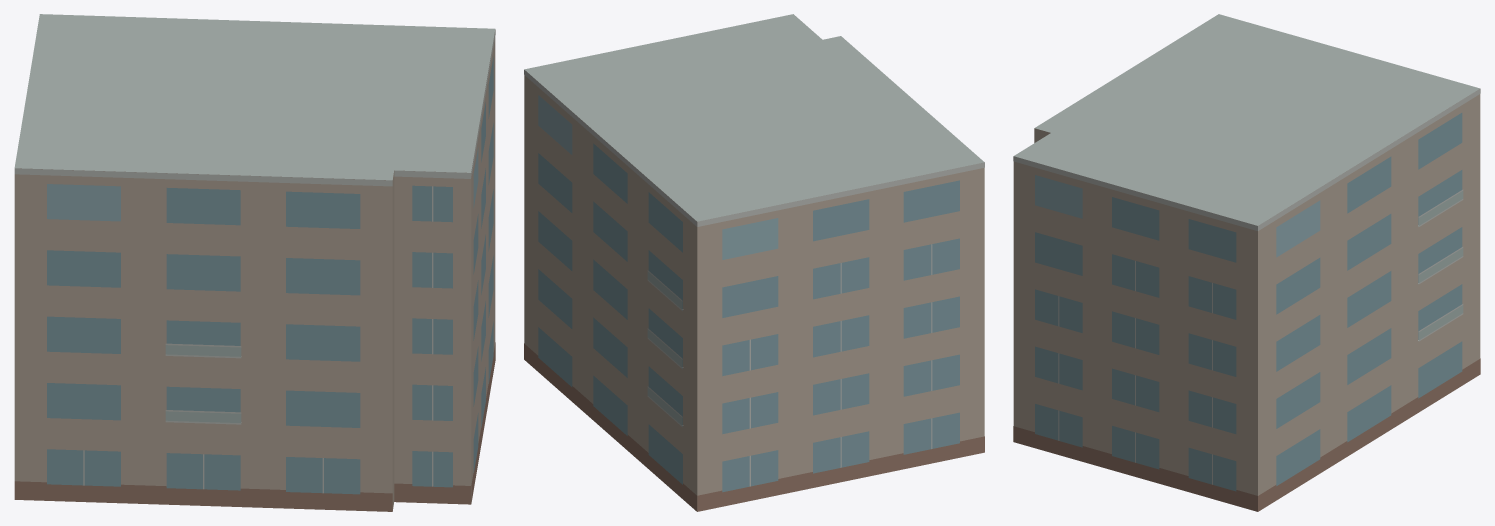
File: survey-upis-33045567.glb
3 renders of one model, left to right at view 1: azimuth 30°, elevation 25°; view 2: azimuth 150°, elevation 25°; view 3: azimuth 270°, elevation 25°, orthographic. The views are drawn at different scales.
Parts seen in each view (by area): view 1: survey-upis-33045567.tmp; view 2: survey-upis-33045567.tmp; view 3: survey-upis-33045567.tmp.
Boxes of the visible parts, box(x1,y1,x2,y2) form: survey-upis-33045567.tmp: box(14, 14, 495, 511); survey-upis-33045567.tmp: box(524, 14, 984, 511); survey-upis-33045567.tmp: box(1013, 14, 1480, 511).
Size of the model in its own units: 21.04 by 13.23 by 19.59.
